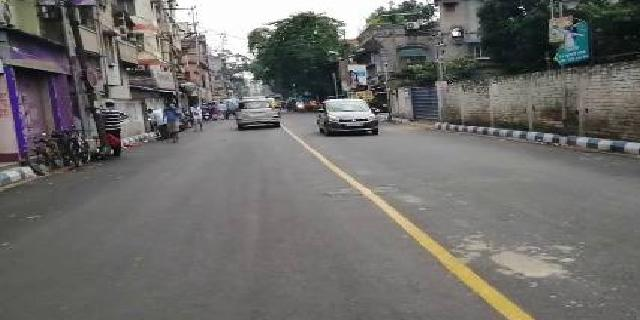Car: (314, 95, 378, 140), (233, 96, 286, 127)
Cycle: (56, 130, 96, 180), (24, 136, 67, 175)
